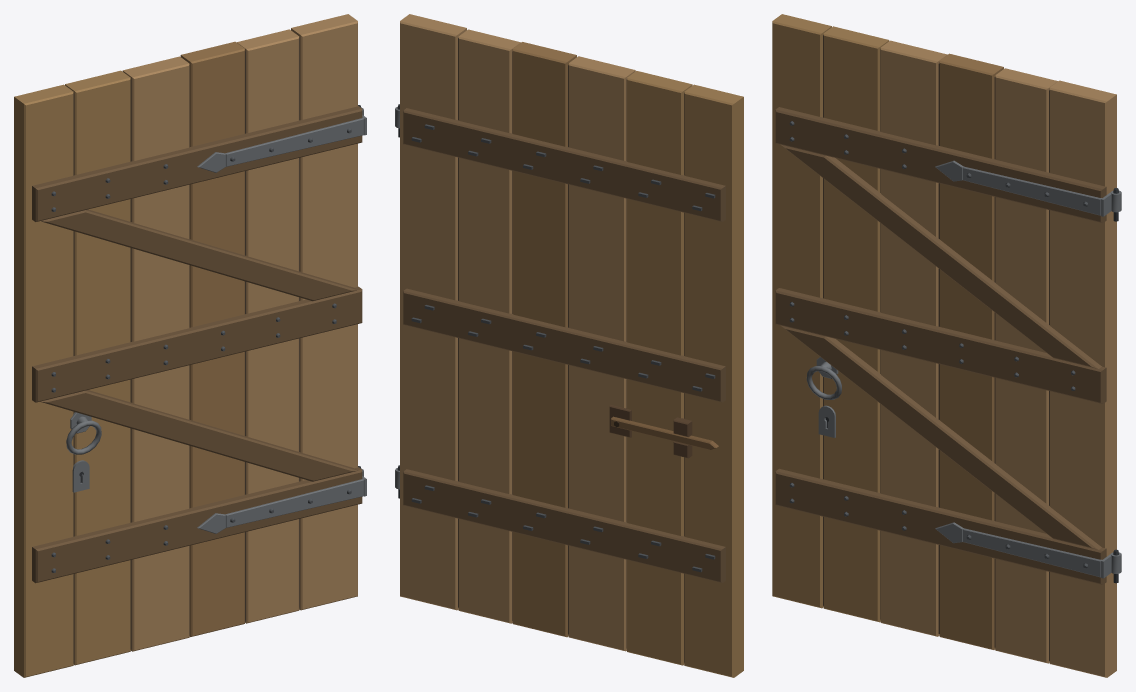
The model's file is SM_LPD_Door_DoorPlank_01.fbx.
3 renders of one model, left to right at view 1: azimuth 30°, elevation 25°; view 2: azimuth 150°, elevation 25°; view 3: azimuth 330°, elevation 25°, orthographic.
Visible parts, largest first — view 1: SM_LPD_Door_DoorPlank_01; view 2: SM_LPD_Door_DoorPlank_01; view 3: SM_LPD_Door_DoorPlank_01.
Part boxes in pixels (bbox=[...]): SM_LPD_Door_DoorPlank_01: bbox=[14, 14, 366, 677]; SM_LPD_Door_DoorPlank_01: bbox=[395, 14, 743, 677]; SM_LPD_Door_DoorPlank_01: bbox=[772, 14, 1121, 677].
Bounding box in the file's own units: 1.59 × 2.55 × 0.187.
